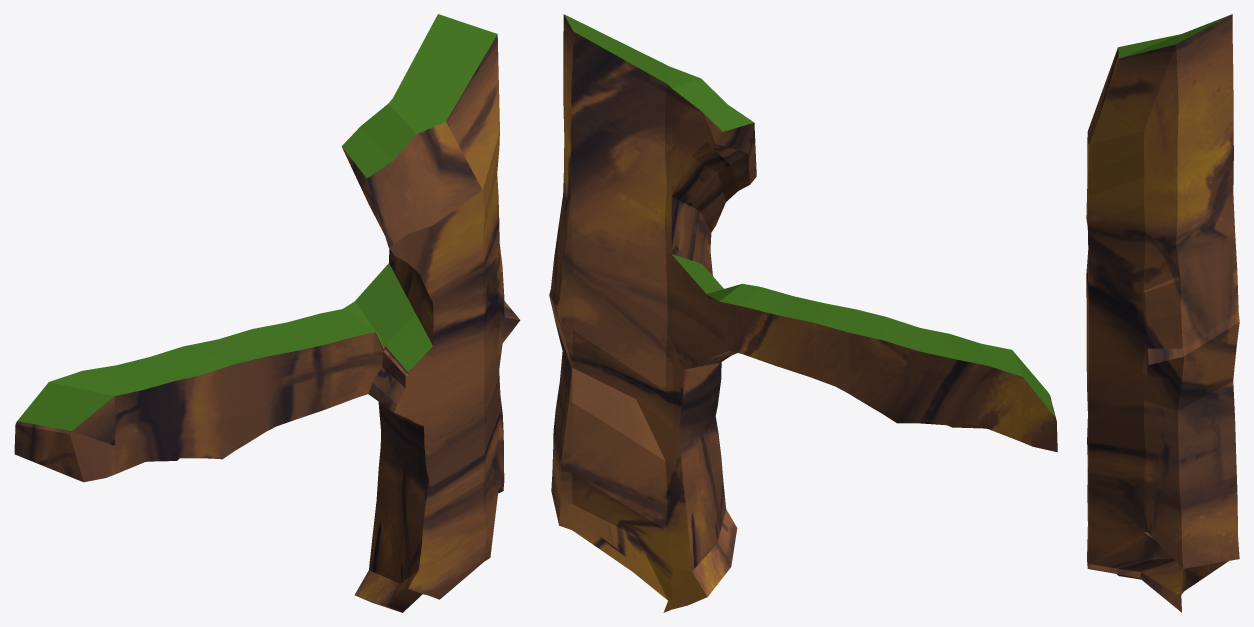
The model's file is sali41.obj.
The picture shows the model from 3 angles, left to right: view 1: azimuth 30°, elevation 25°; view 2: azimuth 150°, elevation 25°; view 3: azimuth 270°, elevation 25°; orthographic projection. The views are drawn at different scales.
Parts seen in each view (by area): view 1: Plane.016_Plane.022; view 2: Plane.016_Plane.022; view 3: Plane.016_Plane.022.
Part boxes in pixels (x1,y1,x2,y2): Plane.016_Plane.022: [14, 14, 520, 612]; Plane.016_Plane.022: [549, 14, 1057, 612]; Plane.016_Plane.022: [1086, 14, 1239, 612].
Bounding box in the file's own units: 255 × 280 × 61.34.
1 material, 1 textured.
